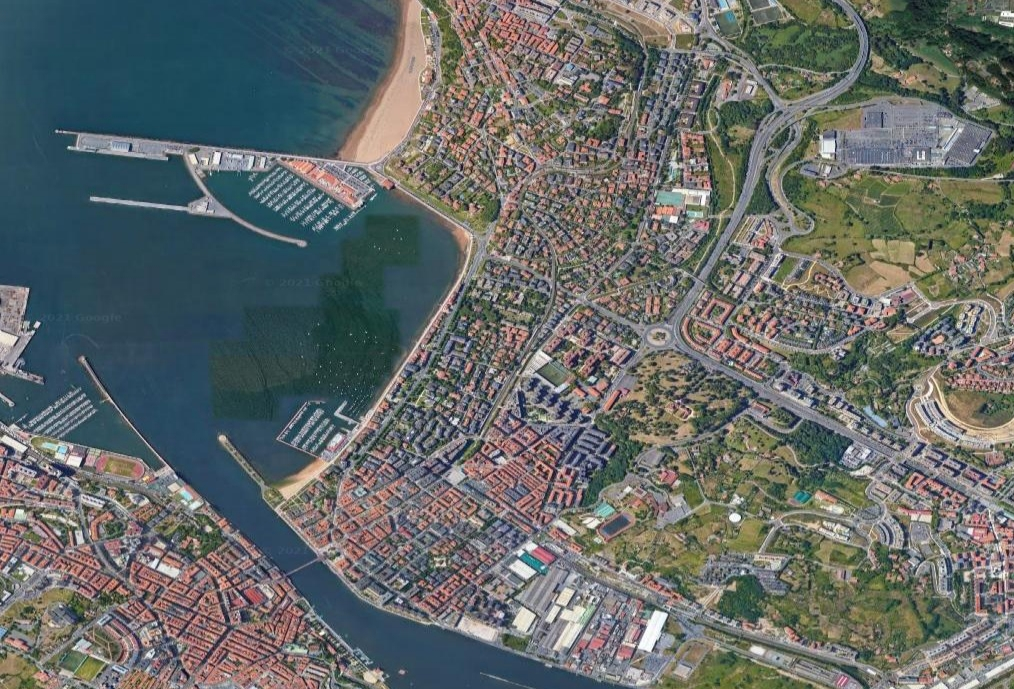harbor: (1, 110, 476, 511)
industrial: (510, 563, 668, 676), (837, 104, 981, 172)
motorway: (814, 415, 907, 466), (723, 368, 815, 419), (685, 217, 742, 297), (666, 291, 723, 371), (762, 79, 842, 135), (835, 1, 880, 85), (730, 133, 771, 218)
